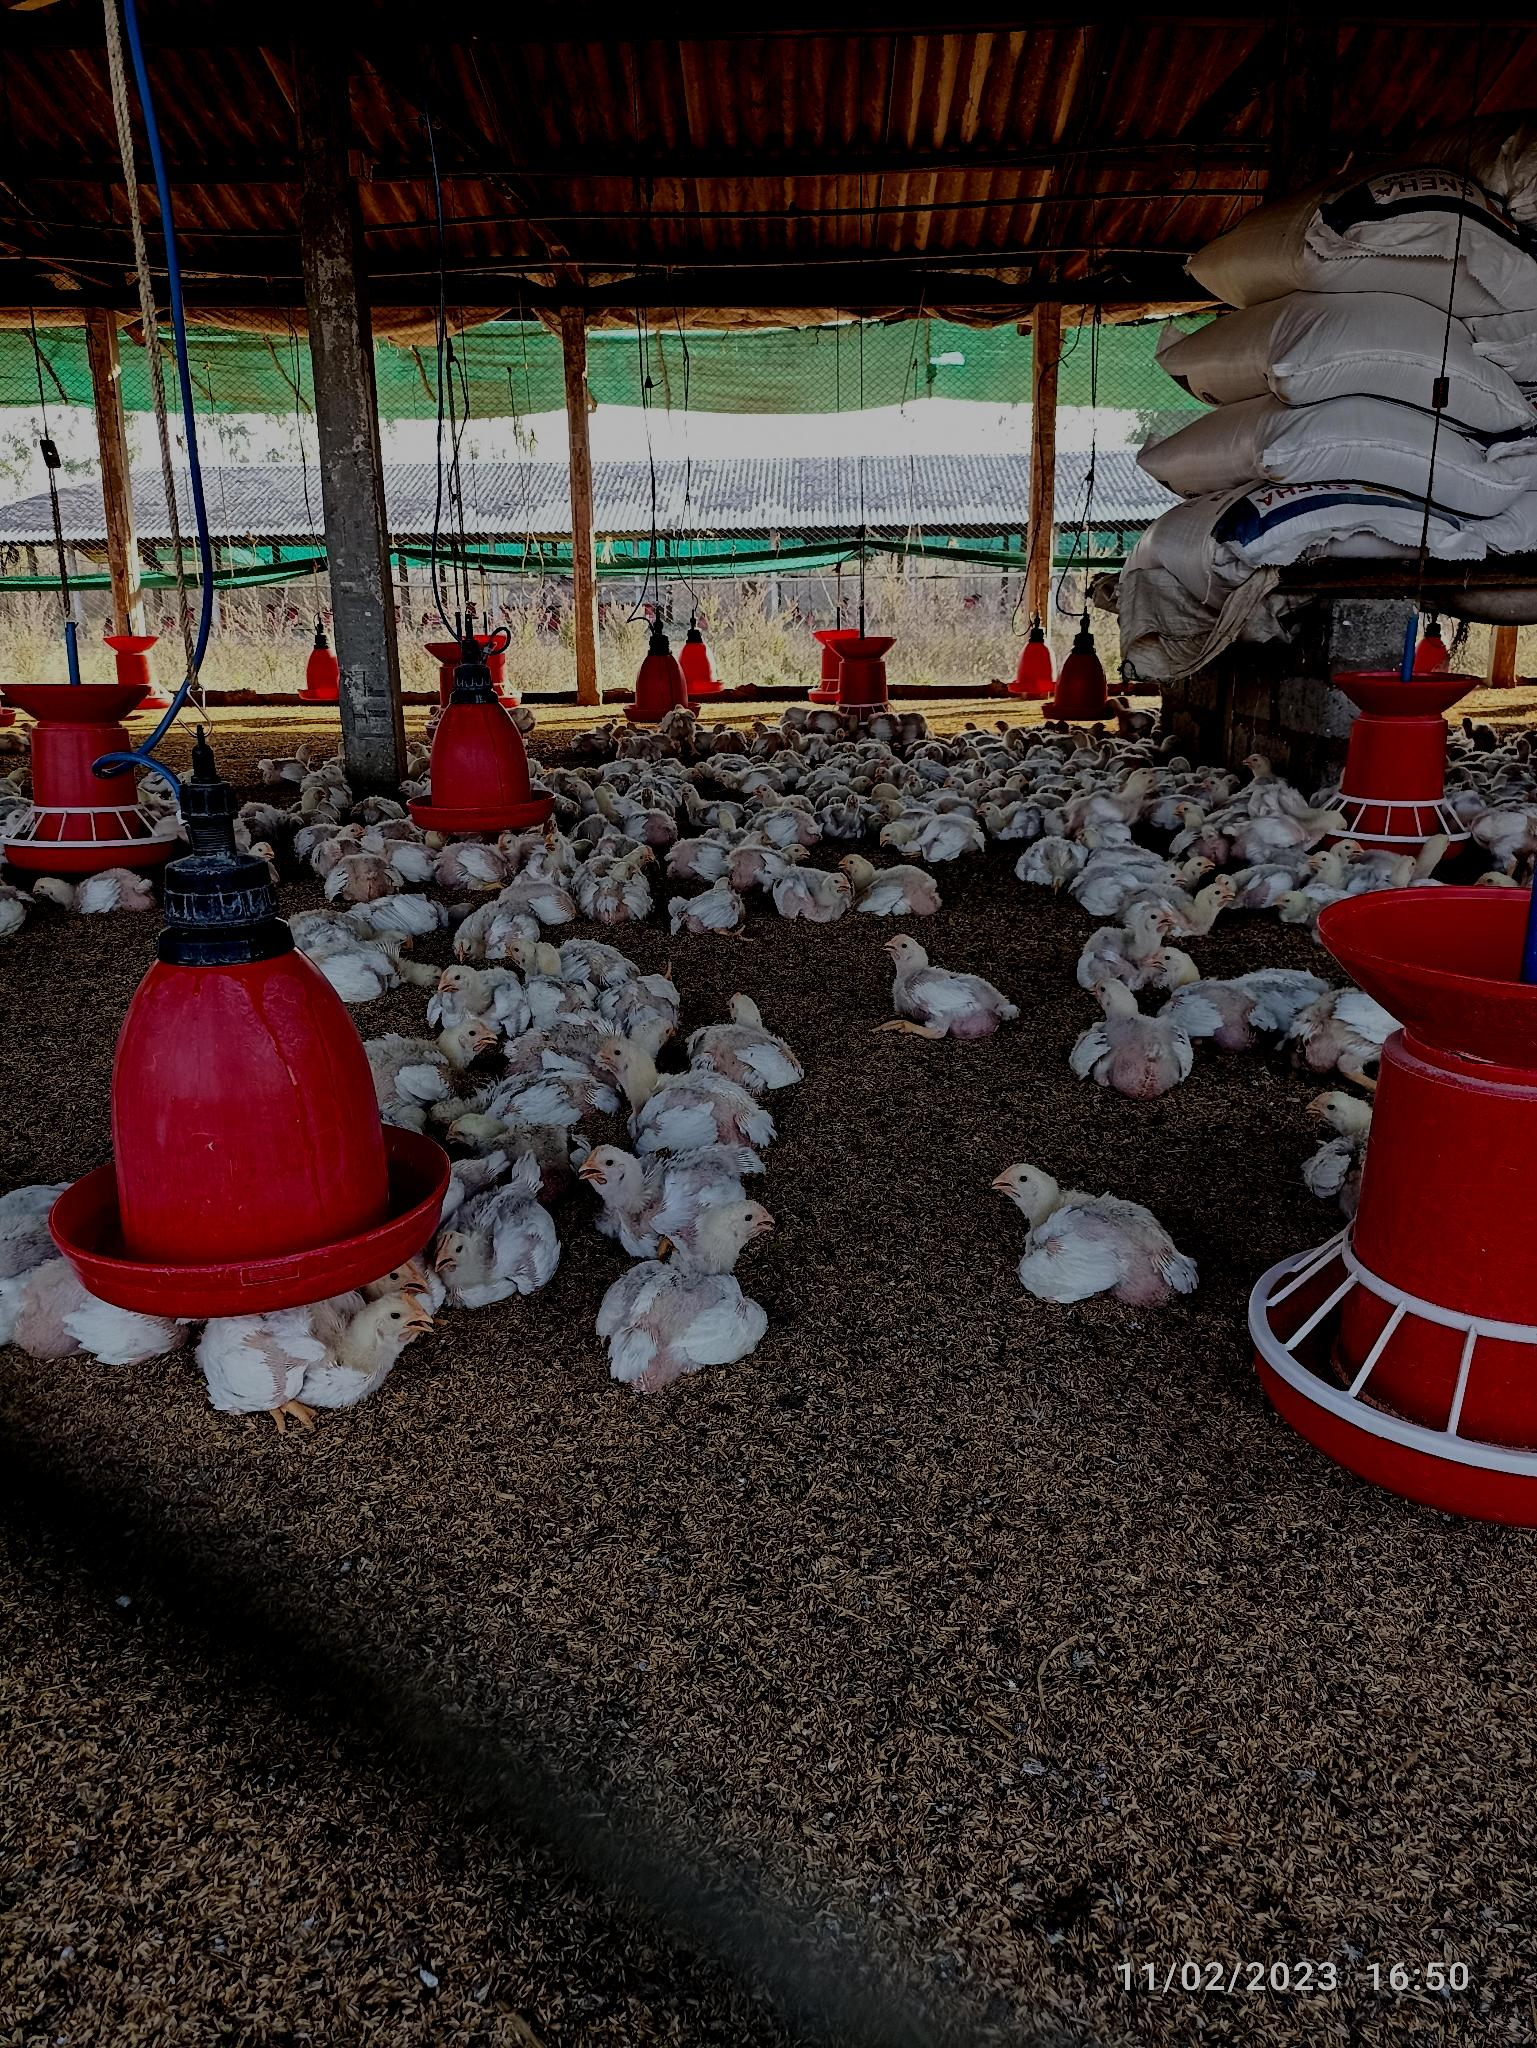Pollos: (602, 1196, 789, 1402), (986, 1159, 1204, 1315), (224, 1296, 450, 1420), (589, 1031, 781, 1151), (1066, 984, 1206, 1102), (873, 928, 1020, 1038), (438, 1175, 560, 1299)
